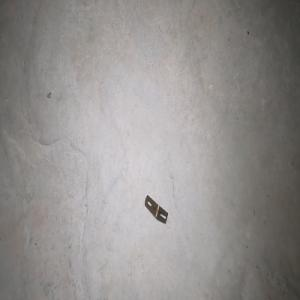MetalPart: (144, 194, 168, 224)
